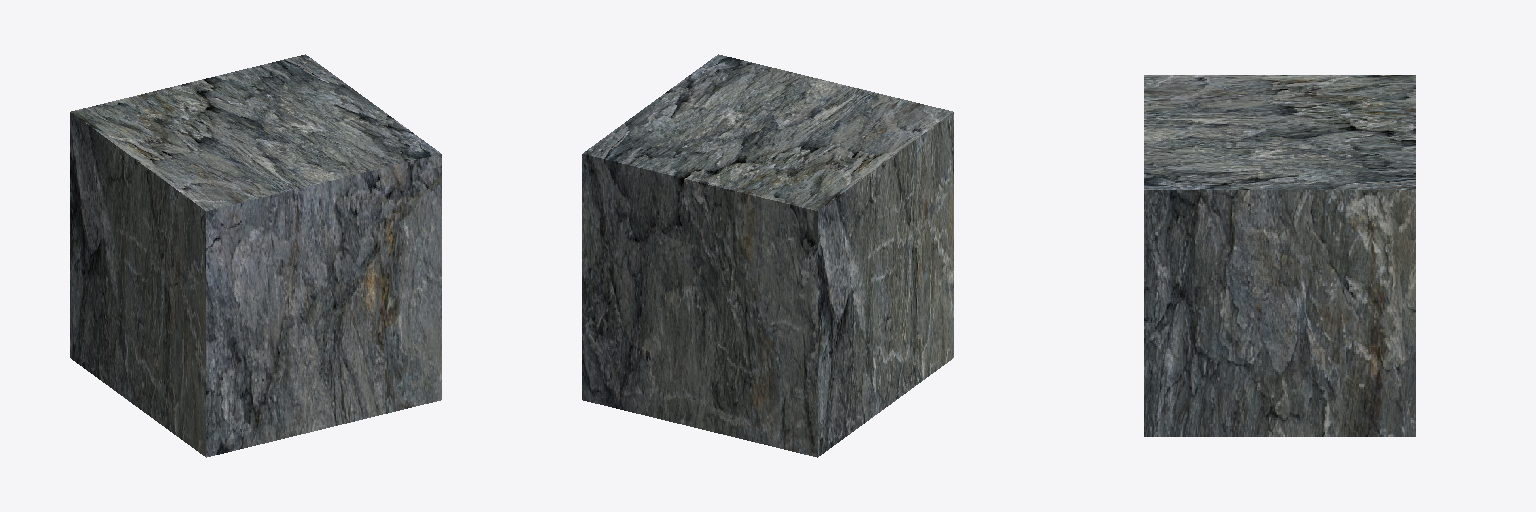
3 views of the same model, side by side, from view 1: azimuth 30°, elevation 25°; view 2: azimuth 150°, elevation 25°; view 3: azimuth 270°, elevation 25° (orthographic).
Parts seen in each view (by area): view 1: Cube; view 2: Cube; view 3: Cube.
Boxes of the visible parts, box(x1,y1,x2,y2) form: Cube: box(70, 54, 441, 457); Cube: box(582, 54, 953, 457); Cube: box(1144, 75, 1415, 436).
Size of the model in its own units: 2 by 2 by 2.
1 materials, 1 textured.